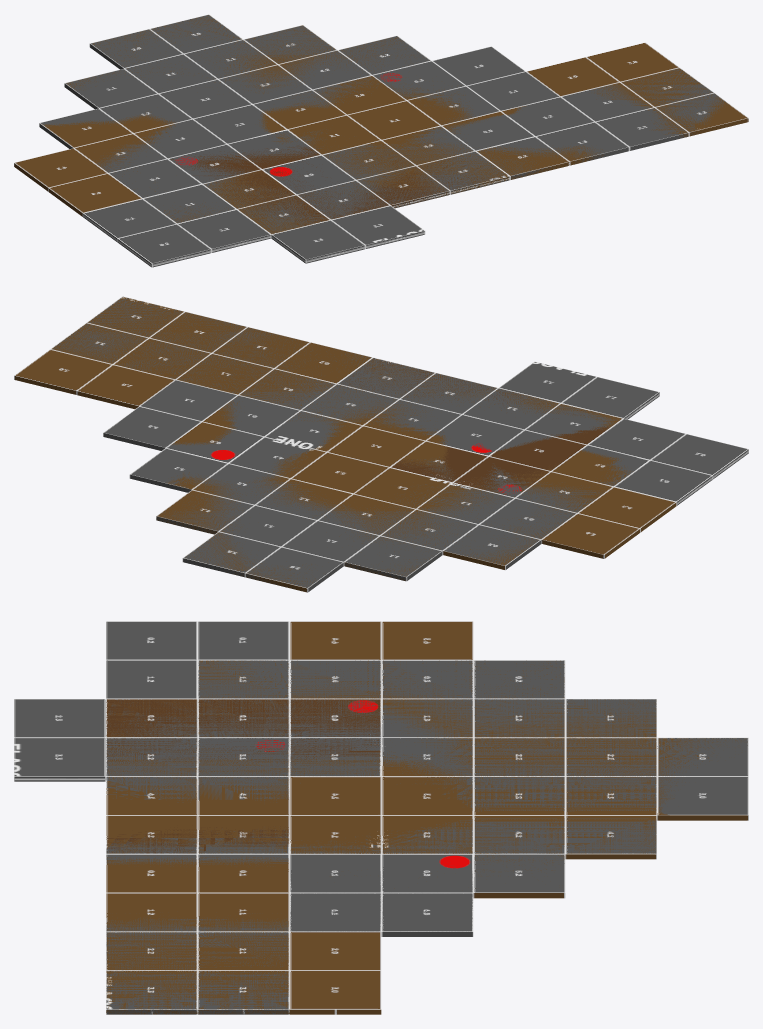
The model's file is floors.glb.
3 renders of one model, top to bottom at view 1: azimuth 30°, elevation 25°; view 2: azimuth 150°, elevation 25°; view 3: azimuth 270°, elevation 25°, orthographic. The views are drawn at different scales.
Parts seen in each view (by area): view 1: 18a, 4a, 18b, 7a, 4b, 3b, 1a, 3a; view 2: 18a, 18b, 3b, 7a, 4a, 3a, 1a, 4b; view 3: 18a, 18b, 7a, 3b, 4a, 3a, 1a, 4b.
Boxes of the visible parts, bbox=[...] form: 18a: bbox=[39, 14, 556, 234]; 4a: bbox=[375, 46, 727, 179]; 18b: bbox=[14, 14, 478, 223]; 7a: bbox=[83, 130, 444, 267]; 4b: bbox=[204, 75, 509, 234]; 3b: bbox=[442, 42, 748, 179]; 1a: bbox=[262, 126, 509, 219]; 3a: bbox=[169, 145, 506, 229]; 18a: bbox=[103, 358, 649, 592]; 18b: bbox=[156, 358, 676, 592]; 3b: bbox=[14, 296, 372, 409]; 7a: bbox=[301, 361, 748, 505]; 4a: bbox=[51, 296, 371, 463]; 3a: bbox=[337, 358, 612, 496]; 1a: bbox=[307, 358, 559, 455]; 4b: bbox=[288, 358, 623, 493]; 18a: bbox=[106, 660, 748, 931]; 18b: bbox=[106, 621, 748, 898]; 7a: bbox=[14, 621, 381, 853]; 3b: bbox=[106, 855, 381, 1014]; 4a: bbox=[106, 854, 473, 1014]; 3a: bbox=[106, 699, 381, 854]; 1a: bbox=[106, 737, 289, 854]; 4b: bbox=[106, 701, 473, 854].
Size of the model in its own units: 32 by 0.2 by 25.6.
4 materials, 4 textured.
